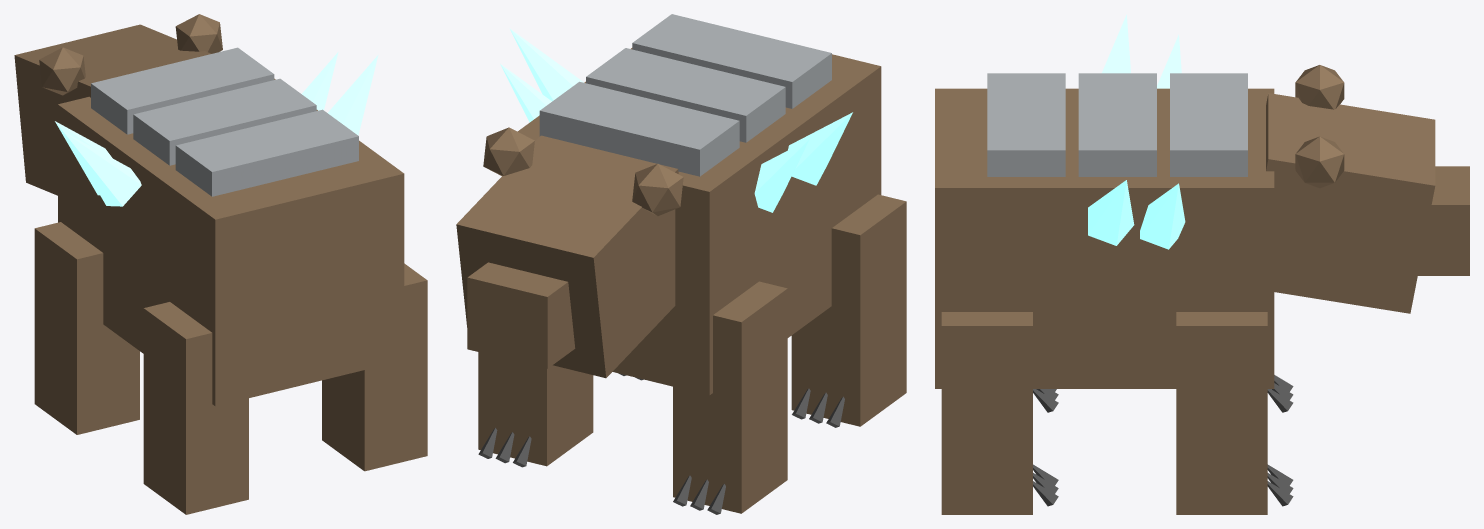
The model's file is AncientBear.fbx.
3 renders of one model, left to right at view 1: azimuth 30°, elevation 25°; view 2: azimuth 150°, elevation 25°; view 3: azimuth 270°, elevation 25°, orthographic. The views are drawn at different scales.
Visible parts, largest first — view 1: Torso, Paw_BL, Paw_FL, Paw_BR, StonePlate_1, Head, StonePlate_3, StonePlate_2, RunicCrystal_L_2, Ear_L, RunicCrystal_R_2, Ear_R (+2 smaller); view 2: Torso, Head, Paw_FL, Paw_BL, StonePlate_3, Paw_FR, Snout, StonePlate_1, StonePlate_2, Ear_L, RunicCrystal_L_2, Ear_R (+3 smaller); view 3: Torso, Head, Paw_BR, Paw_FR, StonePlate_1, StonePlate_2, StonePlate_3, Snout, RunicCrystal_R_2, Ear_R, RunicCrystal_R_1, Ear_L (+1 smaller).
Part boxes in pixels (box(x1,y1,x2,y2)): Torso: box(58, 78, 404, 406); Paw_BL: box(143, 302, 248, 514); Paw_FL: box(34, 222, 139, 434); Paw_BR: box(322, 263, 427, 471); StonePlate_1: box(175, 109, 358, 196); Head: box(14, 24, 211, 195); StonePlate_3: box(91, 47, 274, 134); StonePlate_2: box(133, 78, 316, 165); RunicCrystal_L_2: box(63, 131, 141, 206); Ear_L: box(39, 47, 85, 95); RunicCrystal_R_2: box(328, 55, 378, 135); Ear_R: box(175, 14, 222, 53); Torso: box(517, 48, 881, 395); Head: box(456, 135, 678, 378); Paw_FL: box(673, 281, 787, 513); Paw_BL: box(791, 194, 906, 426); StonePlate_3: box(539, 81, 739, 176); Paw_FR: box(478, 352, 593, 466); Snout: box(467, 262, 575, 368); StonePlate_1: box(632, 14, 831, 108); StonePlate_2: box(586, 48, 785, 142); Ear_L: box(632, 163, 683, 215); RunicCrystal_L_2: box(788, 112, 852, 185); Ear_R: box(483, 127, 534, 175); Torso: box(935, 88, 1274, 388); Head: box(1266, 93, 1435, 313); Paw_BR: box(941, 312, 1032, 514); Paw_FR: box(1176, 312, 1267, 514); StonePlate_1: box(987, 73, 1065, 176); StonePlate_2: box(1078, 73, 1156, 176); StonePlate_3: box(1170, 73, 1247, 176); Snout: box(1418, 166, 1469, 275); RunicCrystal_R_2: box(1088, 180, 1134, 245); Ear_R: box(1295, 136, 1344, 188); RunicCrystal_R_1: box(1140, 183, 1185, 249); Ear_L: box(1295, 65, 1344, 109).
Size of what is drawn, in the model's own units: 3.01 by 4.1 by 3.
